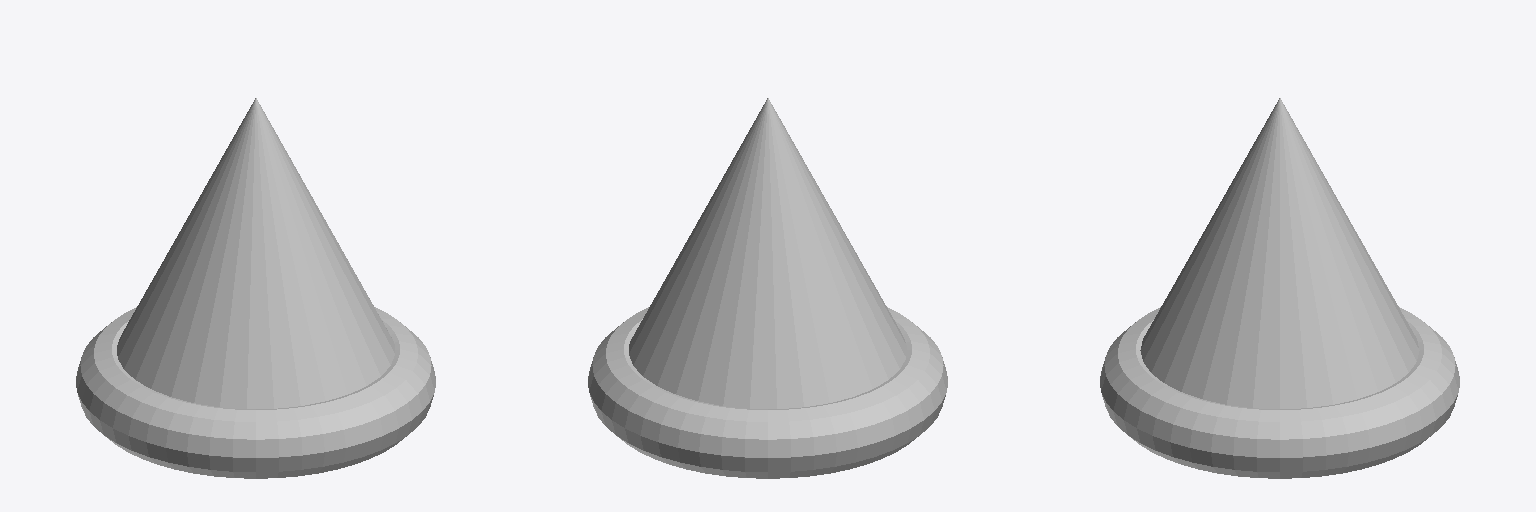
The model's file is Hat.obj.
3 renders of one model, left to right at view 1: azimuth 30°, elevation 25°; view 2: azimuth 150°, elevation 25°; view 3: azimuth 270°, elevation 25°, orthographic.
Visible parts, largest first — view 1: Cone; view 2: Cone; view 3: Cone.
Part boxes in pixels (bbox=[...]): Cone: bbox=[76, 98, 435, 478]; Cone: bbox=[588, 98, 947, 478]; Cone: bbox=[1100, 98, 1459, 478].
Bounding box in the file's own units: 2.5 × 2.42 × 2.5.